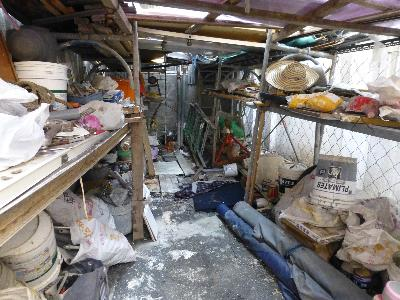bucket: (1, 210, 63, 290), (308, 152, 363, 211), (222, 161, 240, 179)
plastic_bag: (335, 197, 400, 273), (56, 218, 138, 267)
